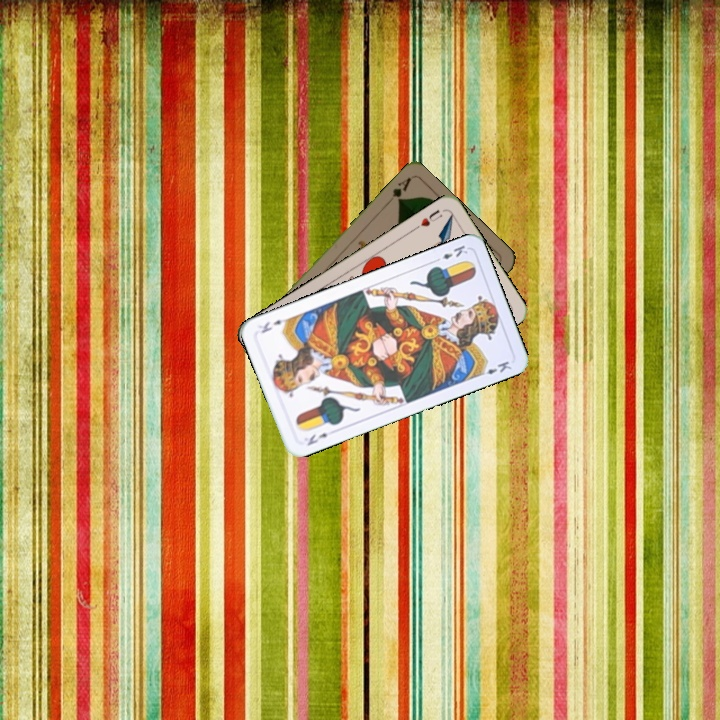EK: (430, 241, 470, 265), (303, 429, 330, 448)
GA: (382, 174, 413, 207)
HU: (410, 206, 445, 233)
